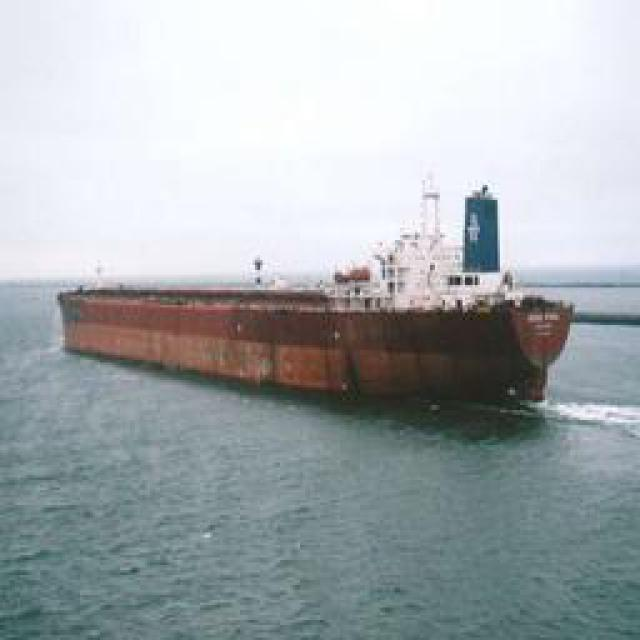Ship: (52, 283, 565, 408)
